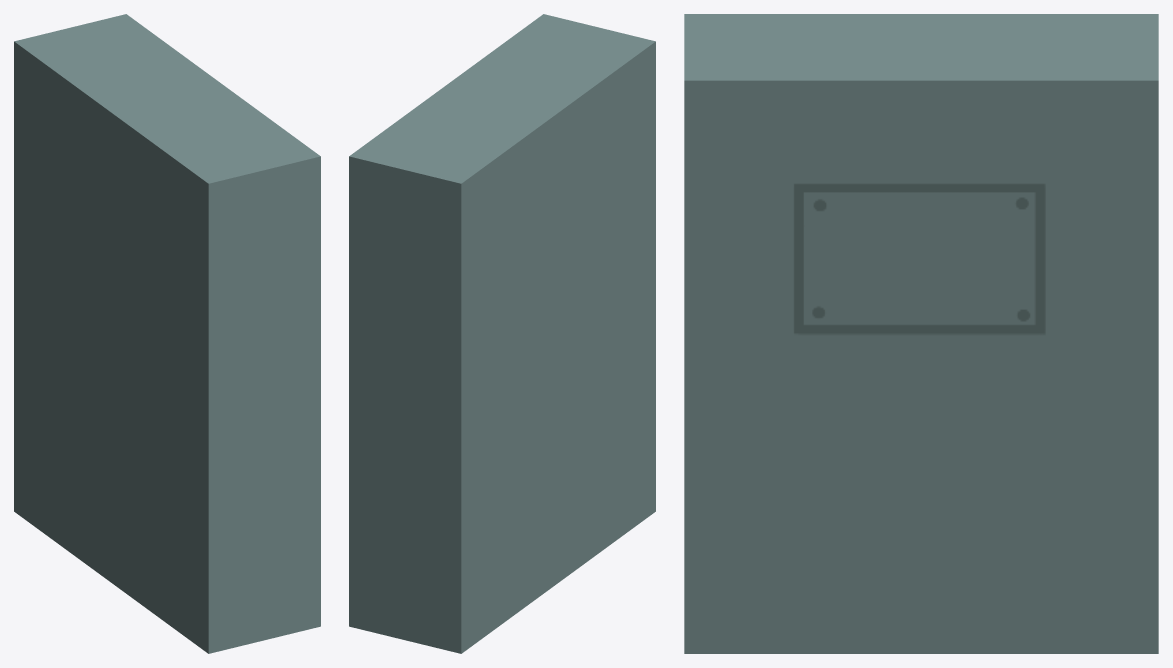
File: Electrical-decorate6.glb
3 views of the same model, side by side, from view 1: azimuth 30°, elevation 25°; view 2: azimuth 150°, elevation 25°; view 3: azimuth 270°, elevation 25° (orthographic). The views are drawn at different scales.
Parts seen in each view (by area): view 1: Cube; view 2: Cube; view 3: Cube.
Part boxes in pixels (x1,y1,x2,y2): Cube: (14,14,320,653); Cube: (349,14,655,653); Cube: (684,14,1158,653).
Size of the model in its own units: 2 by 8 by 6.
Materials: 1 (1 with a texture image).
